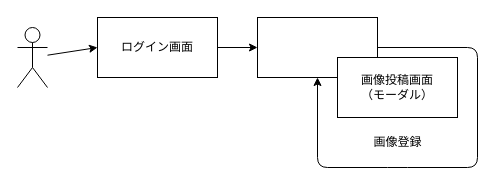
The diagram is 503 pixels wide and 193 high, and some of its shapes have lost their labels. Each missing label, with the centre of its shape:
"Actor" belongs at point (32, 57).
"画像一覧" belongs at point (317, 47).
